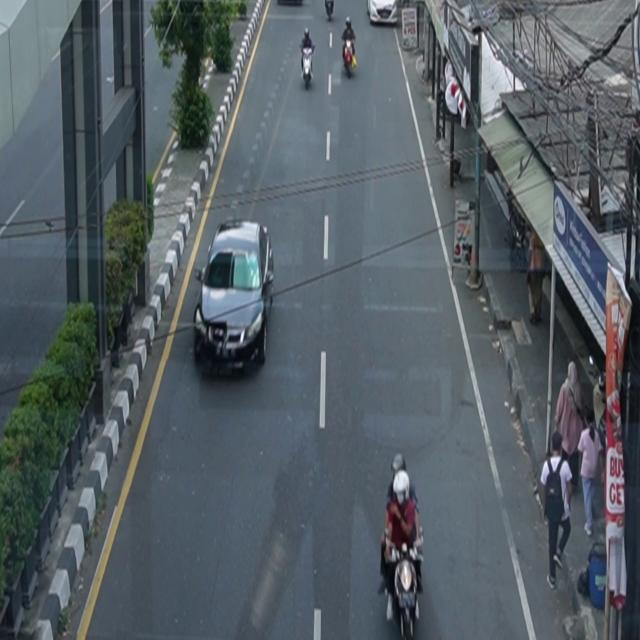car: (194, 220, 275, 377)
